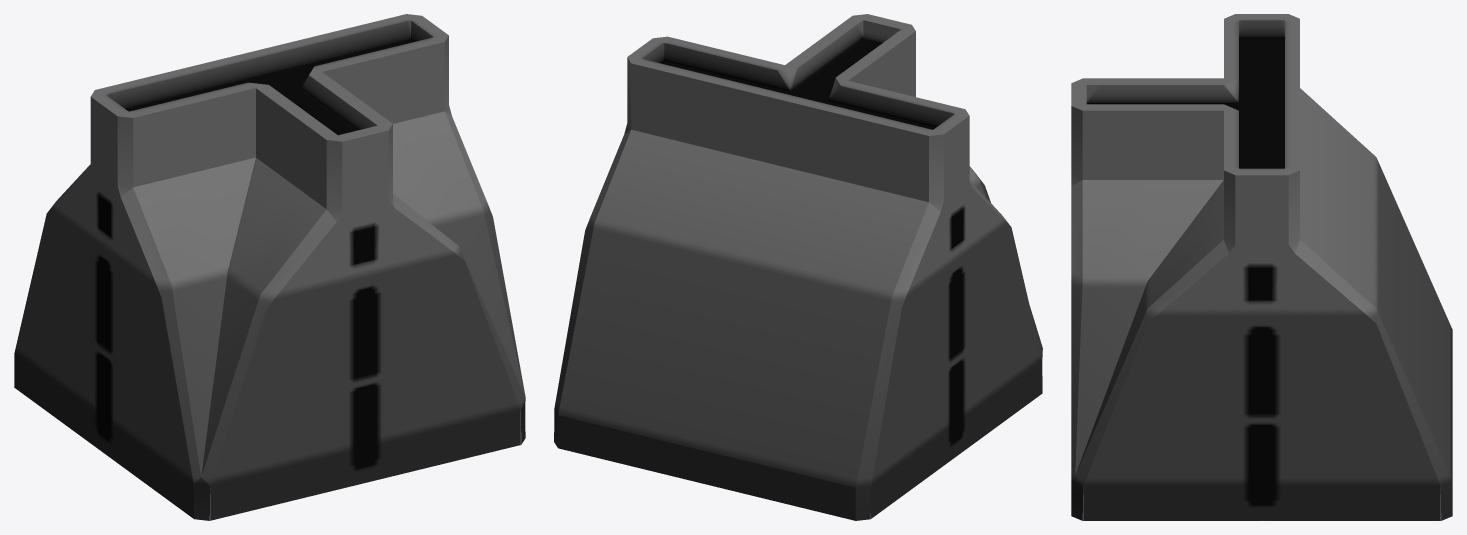
Rendered from wall_double_one_t1.fbx.
3 views of the same model, side by side, from view 1: azimuth 30°, elevation 25°; view 2: azimuth 150°, elevation 25°; view 3: azimuth 270°, elevation 25° (orthographic). The views are drawn at different scales.
Parts seen in each view (by area): view 1: wall_double_one_t1; view 2: wall_double_one_t1; view 3: wall_double_one_t1.
Boxes of the visible parts, <box> form: wall_double_one_t1: <box>14,14,525,520</box>; wall_double_one_t1: <box>554,14,1042,520</box>; wall_double_one_t1: <box>1071,14,1452,520</box>.
Size of the model in its own units: 1 by 1 by 1.
Materials: 1 (1 with a texture image).
